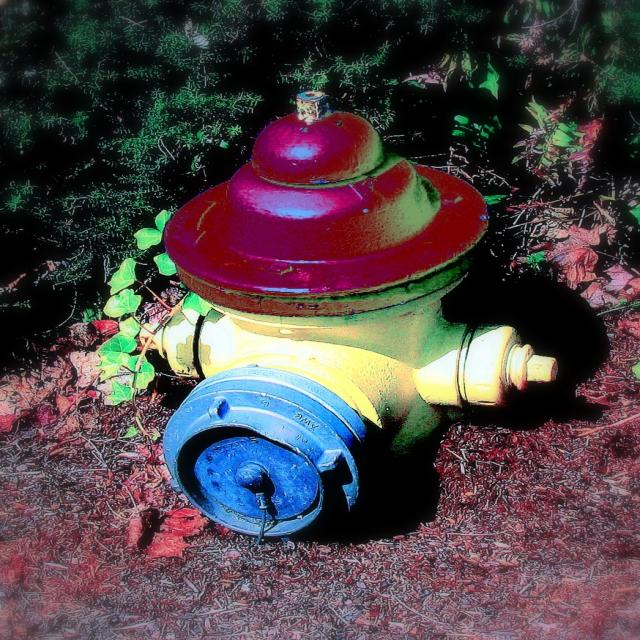fire_hydrant: (162, 87, 557, 533)
